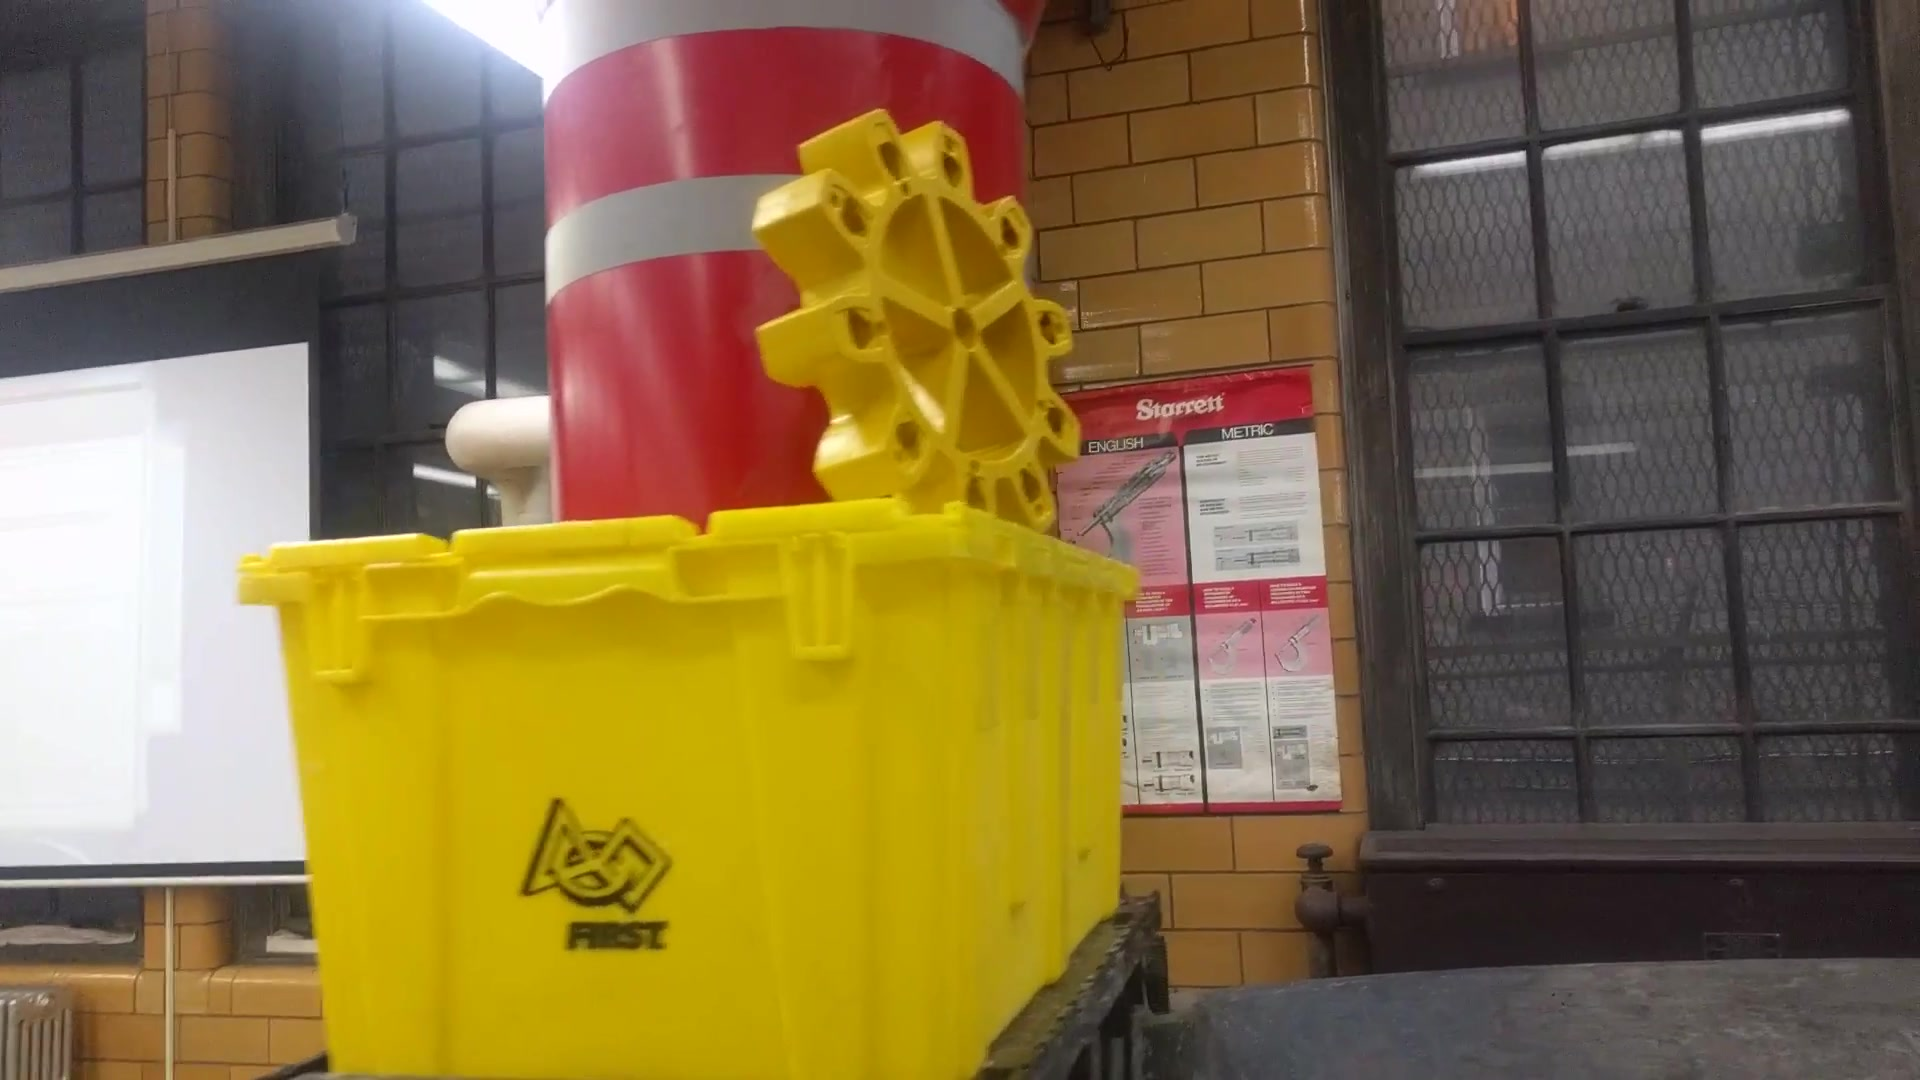gear: (770, 75, 1095, 572)
